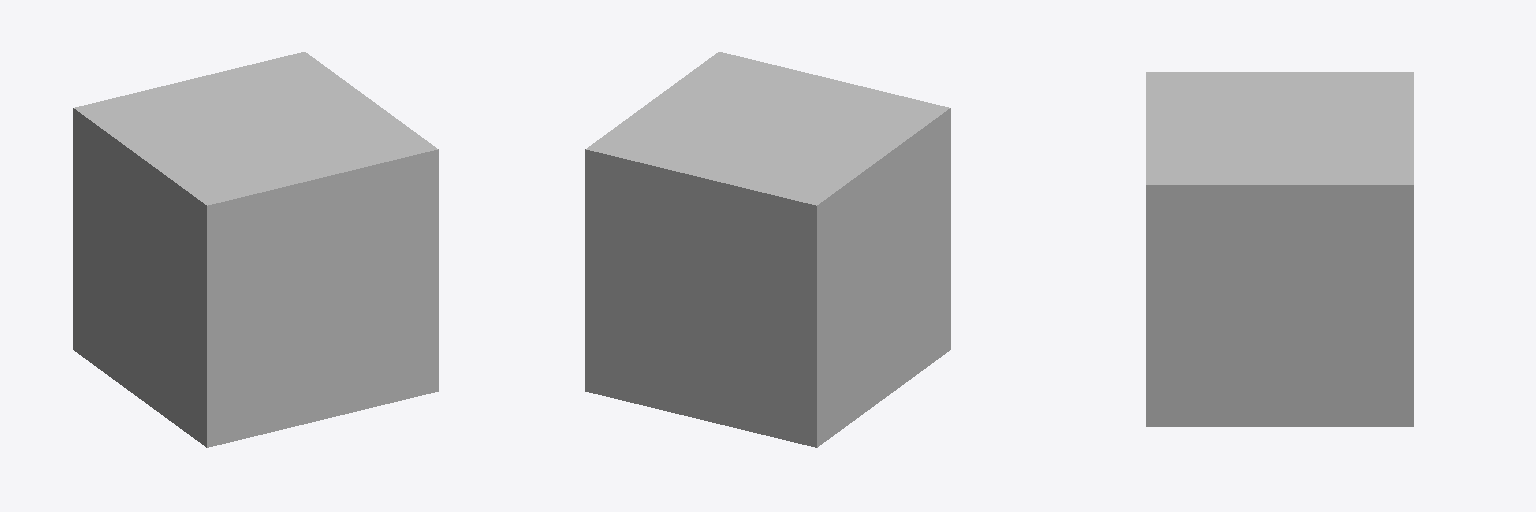
File: normal_1.obj
3 renders of one model, left to right at view 1: azimuth 30°, elevation 25°; view 2: azimuth 150°, elevation 25°; view 3: azimuth 270°, elevation 25°, orthographic.
Visible parts, largest first — view 1: Cube.001_Cube.000; view 2: Cube.001_Cube.000; view 3: Cube.001_Cube.000.
Boxes of the visible parts, x1=… form: Cube.001_Cube.000: x1=73, y1=52, x2=438, y2=447; Cube.001_Cube.000: x1=585, y1=52, x2=950, y2=447; Cube.001_Cube.000: x1=1146, y1=72, x2=1413, y2=426.
Size of the model in its own units: 1 by 1.05 by 1.